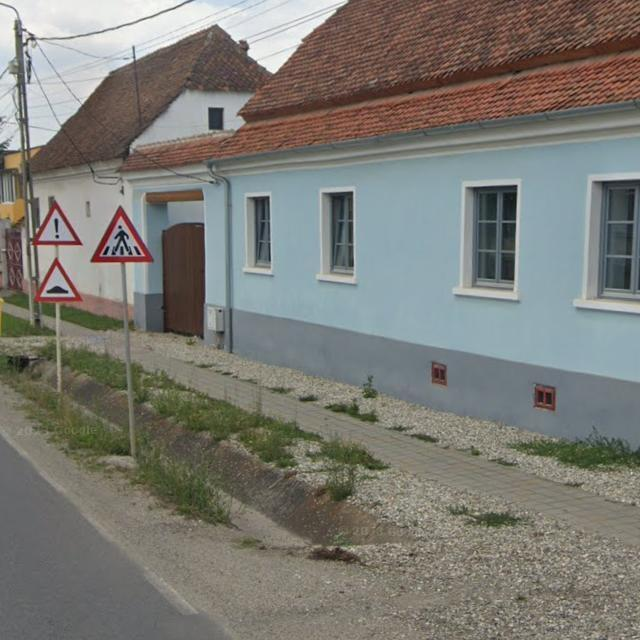warn_crosswalk: (90, 205, 155, 263)
